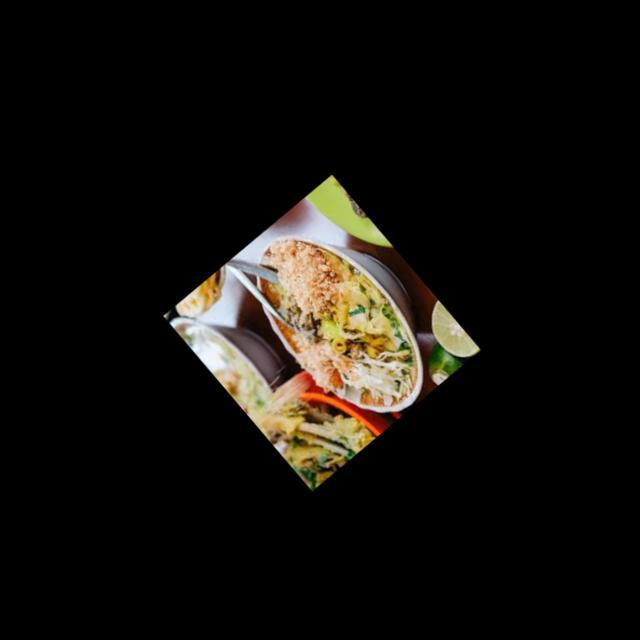Soto: (253, 236, 422, 413)
